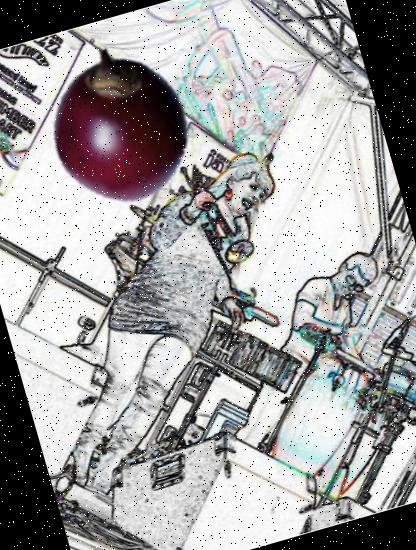Tamarillo: (29, 33, 214, 219)
